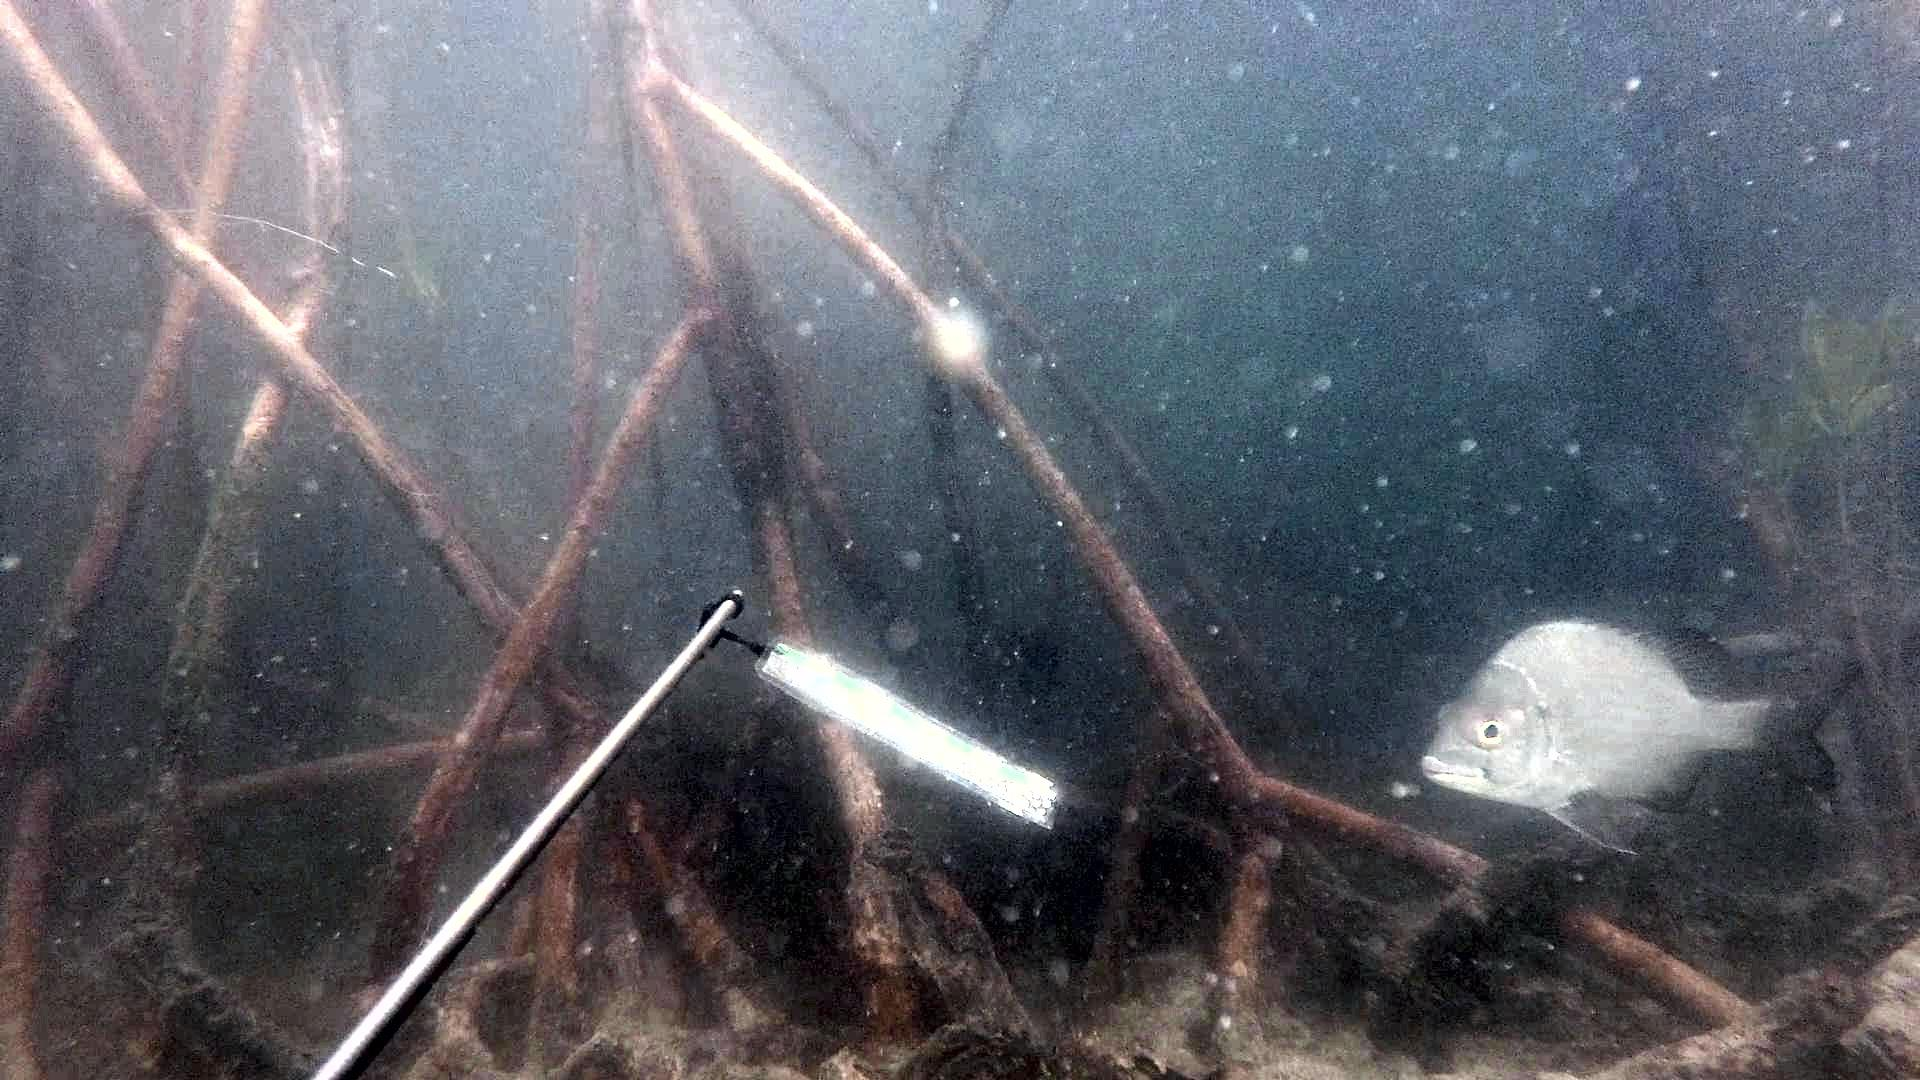acanthopagrus palmaris: (1418, 605, 1870, 863)
